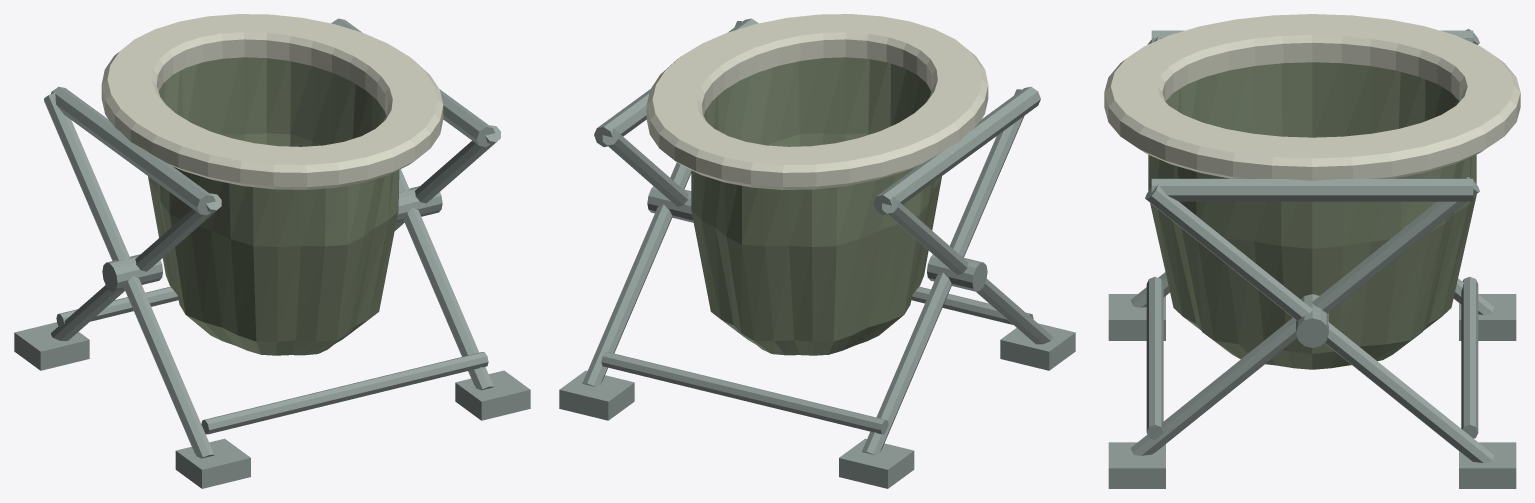
3 renders of one model, left to right at view 1: azimuth 30°, elevation 25°; view 2: azimuth 150°, elevation 25°; view 3: azimuth 270°, elevation 25°, orthographic. The views are drawn at different scales.
Visible parts, largest first — view 1: WholeHangingFoldedCollectionBag, WholeThroughOpeningSeatRing, LRisingWholeFrameLeg, FrontWholeLowerStretcher, LWholeUpperSeatBearer, RRisingWholeFrameLeg, LFallingWholeFrameLeg, LFrontWholeFootPad, RFrontWholeFootPad, LBackWholeFootPad, RFallingWholeFrameLeg, RWholeUpperSeatBearer (+3 smaller); view 2: WholeHangingFoldedCollectionBag, WholeThroughOpeningSeatRing, LFallingWholeFrameLeg, BackWholeLowerStretcher, LWholeUpperSeatBearer, RFallingWholeFrameLeg, LRisingWholeFrameLeg, LBackWholeFootPad, RBackWholeFootPad, LFrontWholeFootPad, RRisingWholeFrameLeg, RWholeUpperSeatBearer (+3 smaller); view 3: WholeHangingFoldedCollectionBag, WholeThroughOpeningSeatRing, RFallingWholeFrameLeg, RWholeUpperSeatBearer, RRisingWholeFrameLeg, FrontWholeLowerStretcher, BackWholeLowerStretcher, RFrontWholeFootPad, RBackWholeFootPad, LFrontWholeFootPad, LBackWholeFootPad, RWholeFixedPivot.
Part boxes in pixels (bbox=[...]): WholeHangingFoldedCollectionBag: bbox=[148, 57, 399, 355]; WholeThroughOpeningSeatRing: bbox=[101, 14, 443, 189]; LRisingWholeFrameLeg: bbox=[44, 92, 214, 458]; FrontWholeLowerStretcher: bbox=[201, 352, 488, 434]; LWholeUpperSeatBearer: bbox=[51, 86, 215, 215]; RRisingWholeFrameLeg: bbox=[399, 169, 493, 390]; LFallingWholeFrameLeg: bbox=[51, 193, 221, 340]; LFrontWholeFootPad: bbox=[175, 438, 250, 488]; RFrontWholeFootPad: bbox=[455, 370, 530, 420]; LBackWholeFootPad: bbox=[14, 322, 89, 370]; RFallingWholeFrameLeg: bbox=[394, 125, 500, 230]; RWholeUpperSeatBearer: bbox=[331, 18, 494, 146]; WholeHangingFoldedCollectionBag: bbox=[691, 57, 941, 355]; WholeThroughOpeningSeatRing: bbox=[646, 14, 988, 189]; LFallingWholeFrameLeg: bbox=[862, 89, 1024, 454]; BackWholeLowerStretcher: bbox=[601, 352, 888, 434]; LWholeUpperSeatBearer: bbox=[873, 86, 1040, 215]; RFallingWholeFrameLeg: bbox=[582, 21, 742, 386]; LRisingWholeFrameLeg: bbox=[882, 196, 1052, 344]; LBackWholeFootPad: bbox=[839, 438, 914, 488]; RBackWholeFootPad: bbox=[559, 370, 634, 420]; LFrontWholeFootPad: bbox=[1000, 323, 1075, 370]; RRisingWholeFrameLeg: bbox=[602, 128, 688, 206]; RWholeUpperSeatBearer: bbox=[594, 18, 758, 146]; WholeHangingFoldedCollectionBag: bbox=[1148, 62, 1476, 369]; WholeThroughOpeningSeatRing: bbox=[1104, 14, 1520, 180]; RFallingWholeFrameLeg: bbox=[1145, 185, 1494, 462]; RWholeUpperSeatBearer: bbox=[1151, 178, 1473, 201]; RRisingWholeFrameLeg: bbox=[1130, 177, 1479, 455]; FrontWholeLowerStretcher: bbox=[1146, 276, 1163, 439]; BackWholeLowerStretcher: bbox=[1461, 276, 1478, 438]; RFrontWholeFootPad: bbox=[1108, 442, 1165, 488]; RBackWholeFootPad: bbox=[1459, 442, 1516, 488]; LFrontWholeFootPad: bbox=[1108, 294, 1165, 340]; LBackWholeFootPad: bbox=[1459, 294, 1516, 340]; RWholeFixedPivot: bbox=[1296, 294, 1328, 347].
Size of the model in its own units: 0.576 by 0.487 by 0.582.
